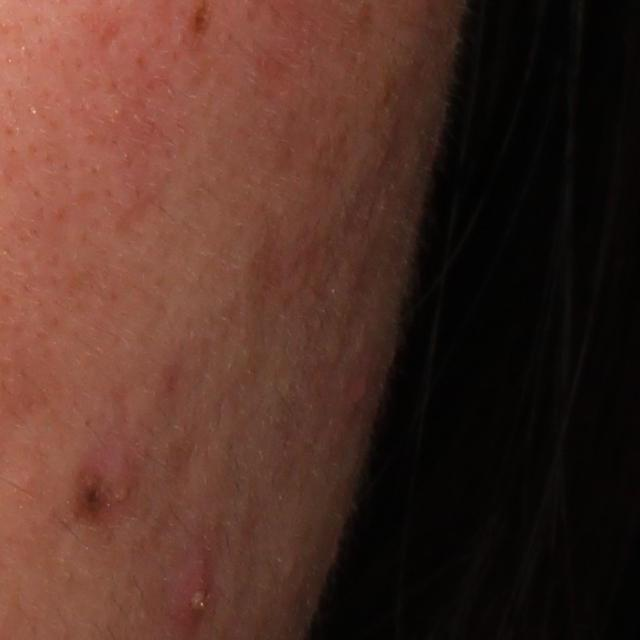atrophic_scar: (99, 20, 122, 51)
papule: (345, 358, 379, 420)
